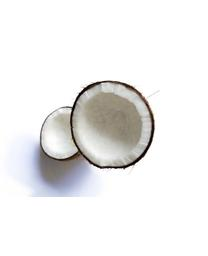coconut: (69, 80, 155, 169), (39, 106, 86, 162)
